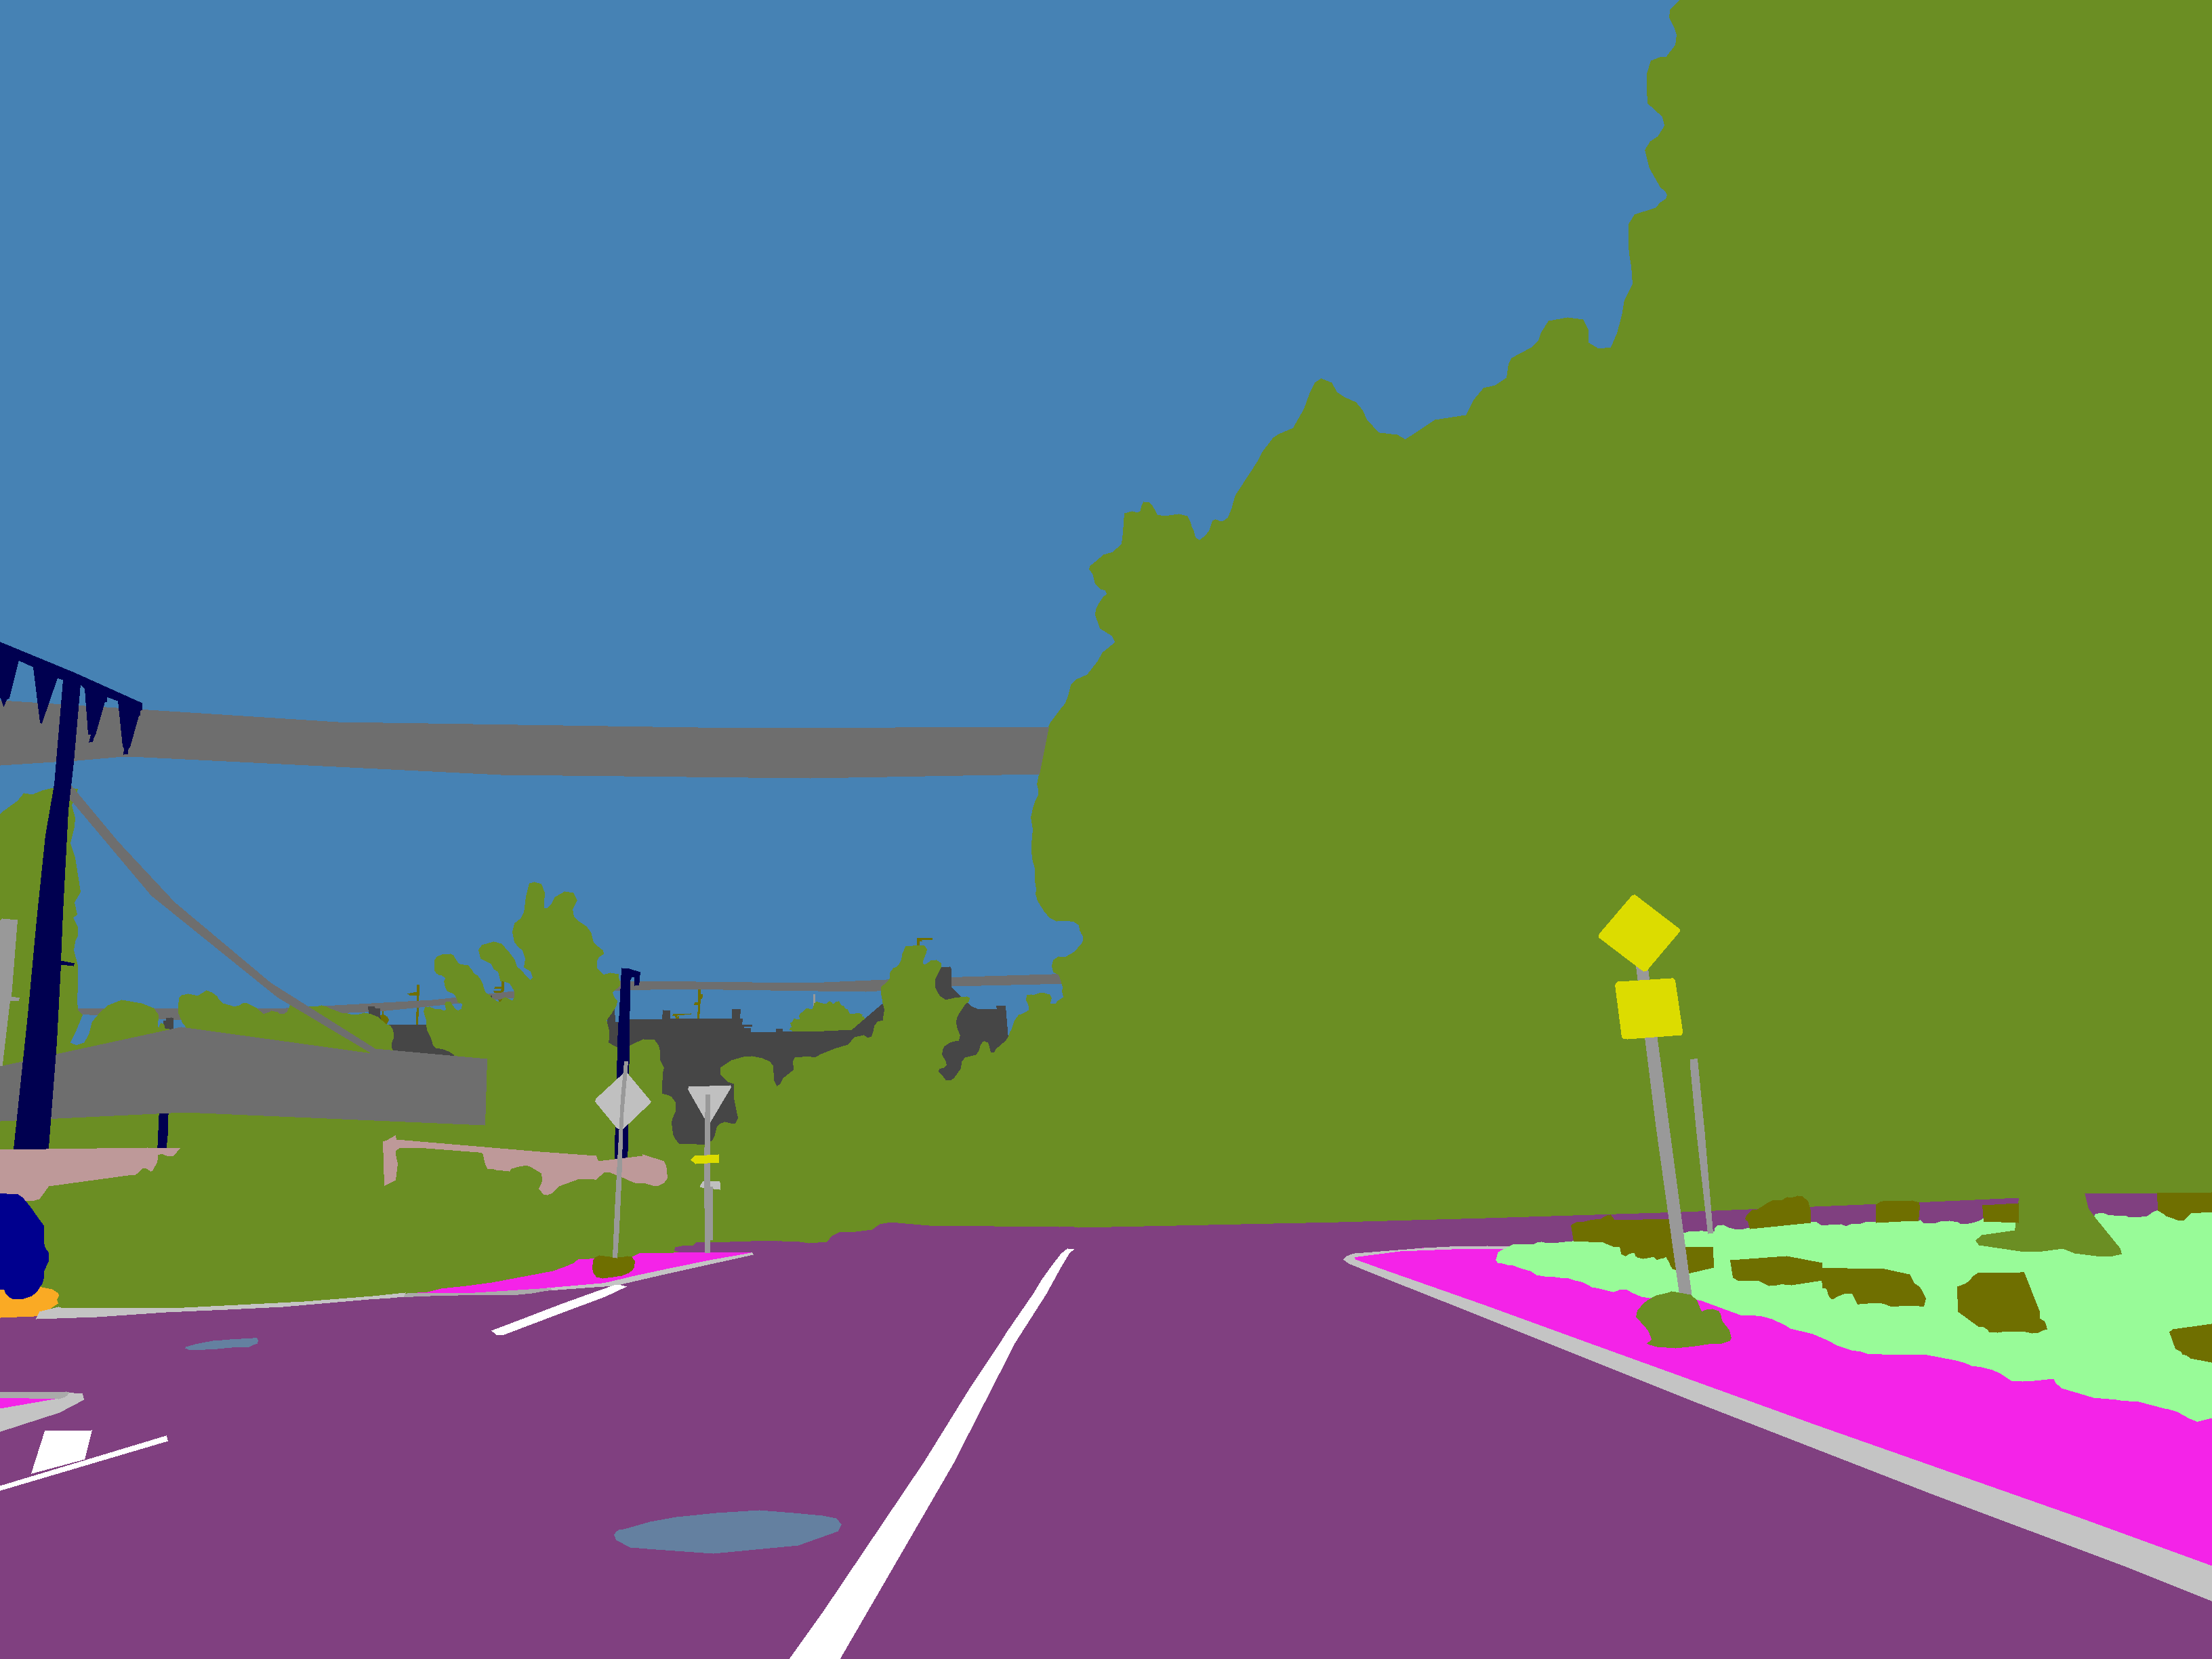construction--flat--driveway: (0, 1286, 57, 1317)
marking--discrete--other-marking: (31, 1431, 92, 1473)
object--manhole: (615, 1509, 841, 1553), (185, 1338, 258, 1349)
object--support--pole: (1635, 967, 1691, 1295), (1689, 1058, 1712, 1234), (0, 918, 19, 1065), (613, 1061, 627, 1258), (704, 1094, 709, 1253), (711, 1187, 712, 1239), (813, 993, 815, 1006)
object--support--utility-pole: (0, 641, 141, 1148), (615, 967, 639, 1159), (157, 1114, 167, 1147)
object--traffic-sign--back: (596, 1073, 651, 1129), (688, 1086, 730, 1122), (700, 1182, 719, 1188)
object--traffic-sign--front: (1599, 894, 1679, 971), (1615, 978, 1683, 1039), (690, 1154, 718, 1164)
object--vehicle--car: (0, 1194, 49, 1298)
